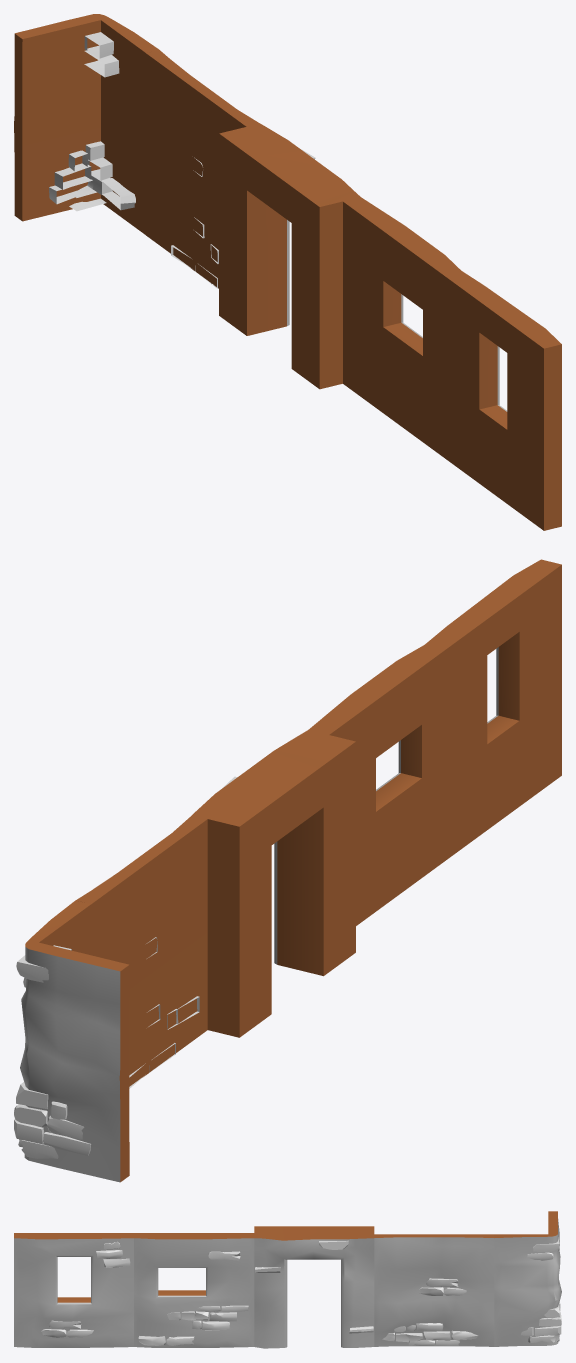
The model's file is Modular_houses_with_bricks.fbx.
The picture shows the model from 3 angles, top to bottom: view 1: azimuth 30°, elevation 25°; view 2: azimuth 150°, elevation 25°; view 3: azimuth 270°, elevation 25°; orthographic projection. The views are drawn at different scales.
Visible parts, largest first — view 1: Cube.513, Cube.489, corner_low.020, Cube.507, Wall1_low.009, corner_brick_low.021; view 2: Cube.513, Cube.489, corner_low.020, Cube.507, Wall1_low.009, corner_brick_low.021; view 3: Wall1_low.009, Cube.489, Cube.507, Cube.513, corner_low.020, wall1_brick_low.033, wall1_brick_low.035, corner_brick_low.021, wall1_brick_low.031, wall1_brick_low.034.
Boxes of the visible parts, x1,y1,x2,y2 form: Cube.513: [219, 123, 360, 389]; Cube.489: [443, 270, 561, 530]; corner_low.020: [14, 14, 159, 234]; Cube.507: [343, 197, 460, 456]; Wall1_low.009: [146, 50, 259, 288]; corner_brick_low.021: [49, 32, 135, 211]; Cube.513: [192, 730, 355, 1037]; Cube.489: [425, 559, 561, 860]; corner_low.020: [20, 900, 129, 1182]; Cube.507: [308, 644, 445, 925]; Wall1_low.009: [76, 815, 207, 1086]; corner_brick_low.021: [14, 945, 91, 1158]; Wall1_low.009: [374, 1234, 494, 1346]; Cube.489: [14, 1233, 133, 1347]; Cube.507: [134, 1233, 254, 1347]; Cube.513: [254, 1226, 374, 1348]; corner_low.020: [494, 1211, 561, 1346]; wall1_brick_low.033: [138, 1251, 248, 1345]; wall1_brick_low.035: [382, 1278, 478, 1346]; corner_brick_low.021: [521, 1237, 561, 1342]; wall1_brick_low.031: [41, 1241, 130, 1337]; wall1_brick_low.034: [255, 1240, 373, 1333].
Bounding box in the file's own units: 117 × 202 × 913.
